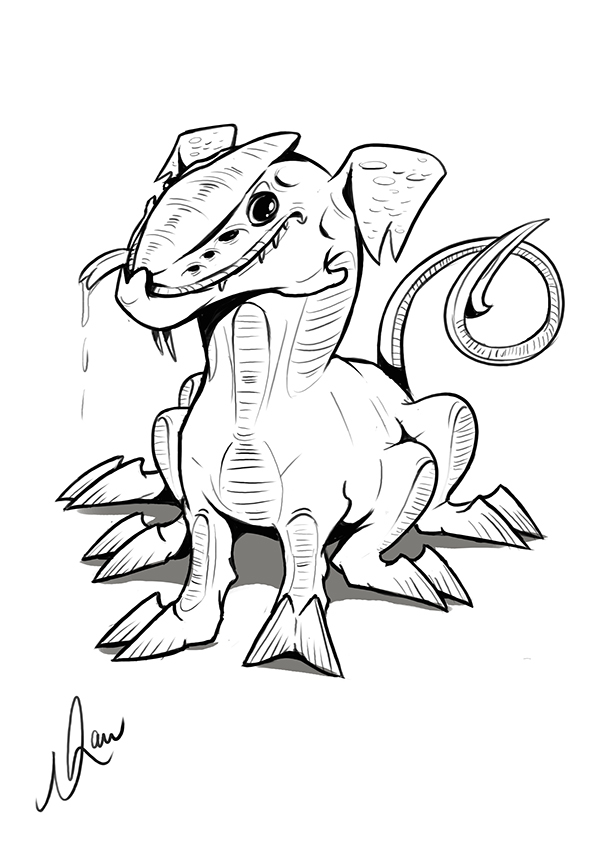bird: (42, 42, 584, 695)
